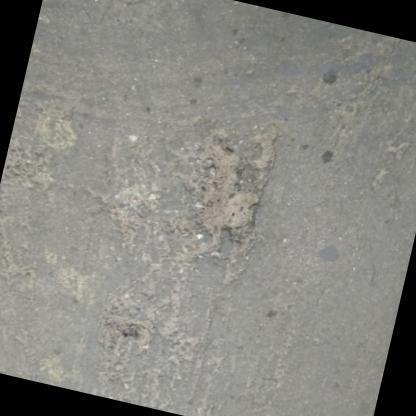pothole: (180, 129, 286, 257)
